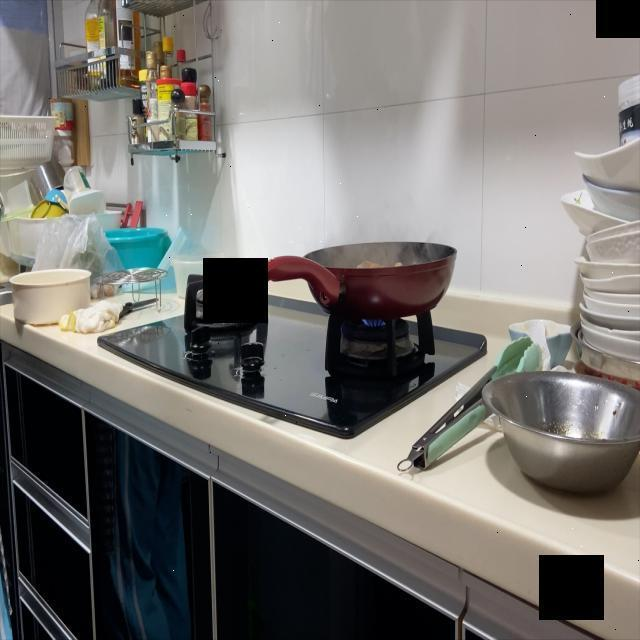Flame: (358, 313, 406, 341)
Pan: (261, 248, 479, 310)
